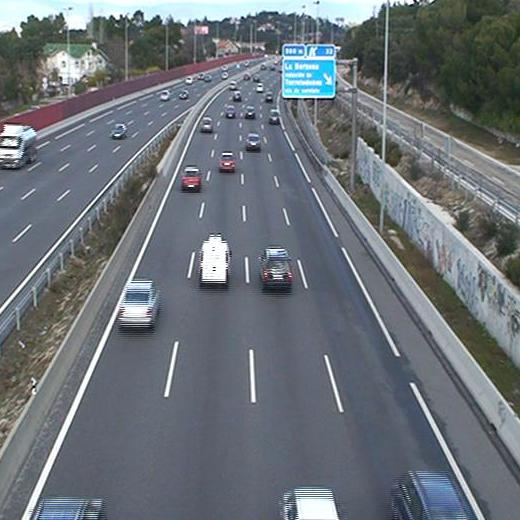car: (390, 472, 471, 520), (280, 486, 340, 520), (116, 279, 158, 327), (257, 246, 294, 287), (179, 166, 200, 190), (218, 152, 236, 169), (245, 132, 262, 149), (200, 116, 214, 131), (268, 109, 281, 122), (226, 106, 237, 118), (244, 106, 256, 116)
van: (198, 233, 231, 285)
